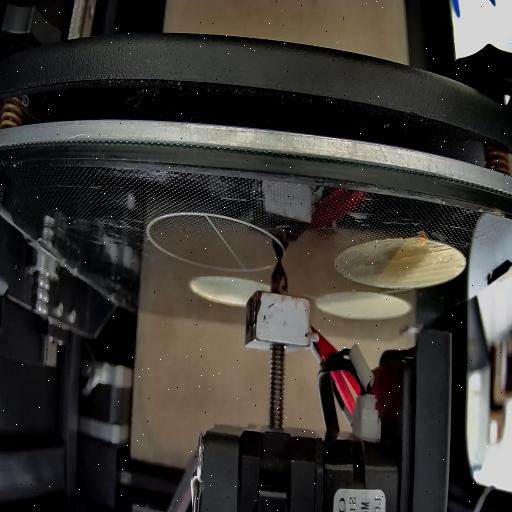under_extrusion: (422, 236, 454, 252), (388, 248, 410, 266), (452, 258, 466, 274)
